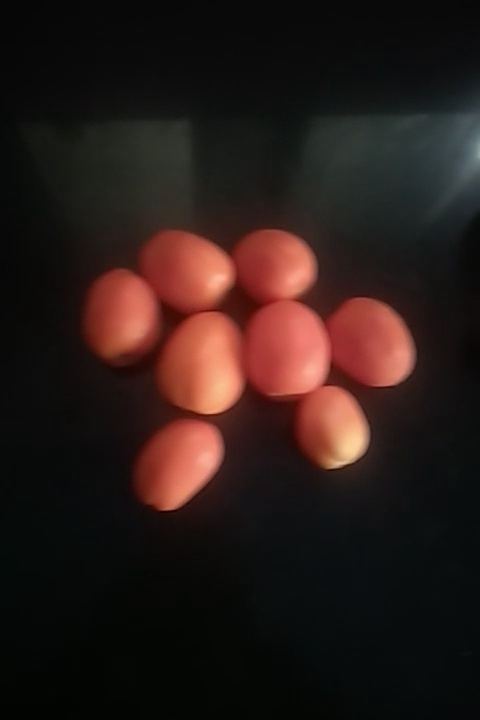tomato: (128, 417, 232, 518), (155, 316, 246, 416), (243, 300, 330, 403), (331, 298, 424, 393), (137, 224, 238, 310), (86, 261, 162, 364), (290, 388, 382, 473), (236, 218, 317, 310)
